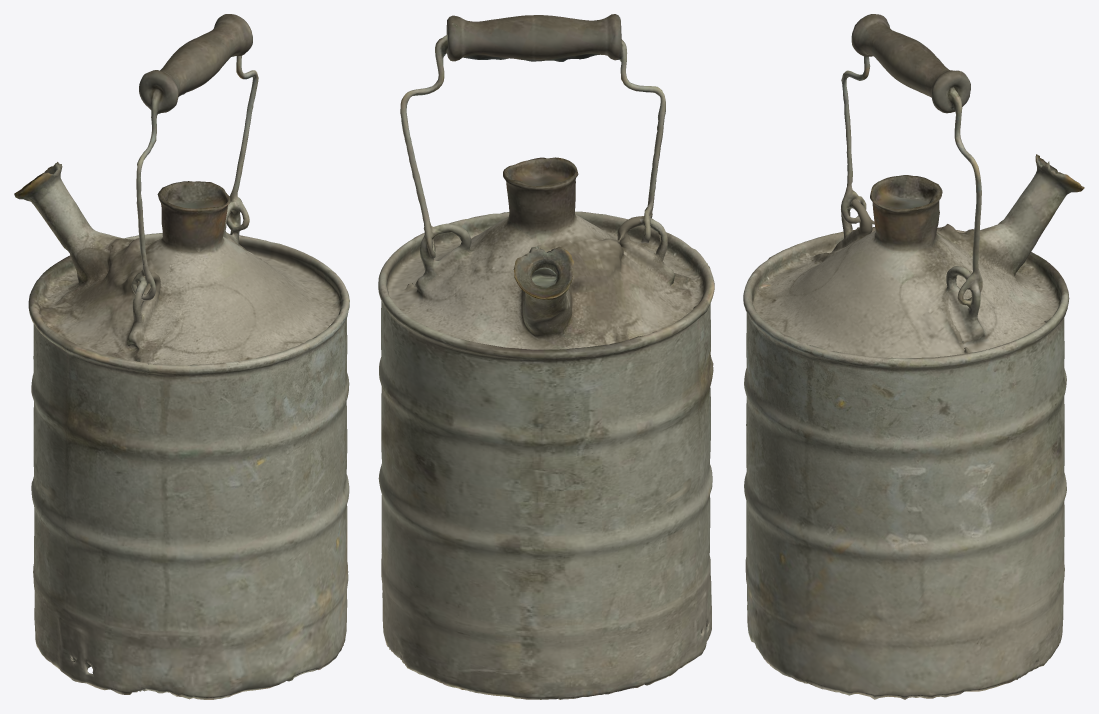
File: obj_bidon_graisse_avec_poign_e_564206.glb
3 renders of one model, left to right at view 1: azimuth 30°, elevation 25°; view 2: azimuth 150°, elevation 25°; view 3: azimuth 270°, elevation 25°, orthographic. The views are drawn at different scales.
Visible parts, largest first — view 1: obj_bidon_graisse_avec_poign_e_564206; view 2: obj_bidon_graisse_avec_poign_e_564206; view 3: obj_bidon_graisse_avec_poign_e_564206.
Part boxes in pixels (x1=…): obj_bidon_graisse_avec_poign_e_564206: x1=14, y1=14, x2=349, y2=699; obj_bidon_graisse_avec_poign_e_564206: x1=378, y1=14, x2=714, y2=699; obj_bidon_graisse_avec_poign_e_564206: x1=743, y1=14, x2=1084, y2=699.
Bounding box in the file's own units: 0.2221 × 0.45 × 0.2337.
Materials: 1 (1 with a texture image).
